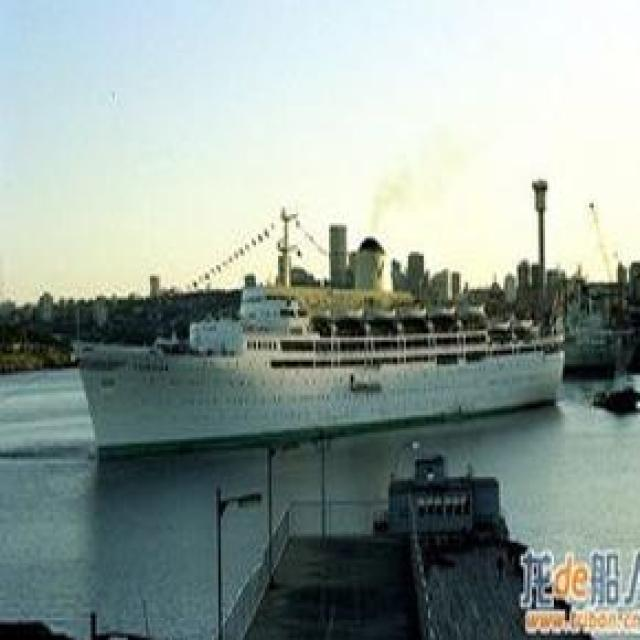passenger ship: (65, 275, 572, 445)
